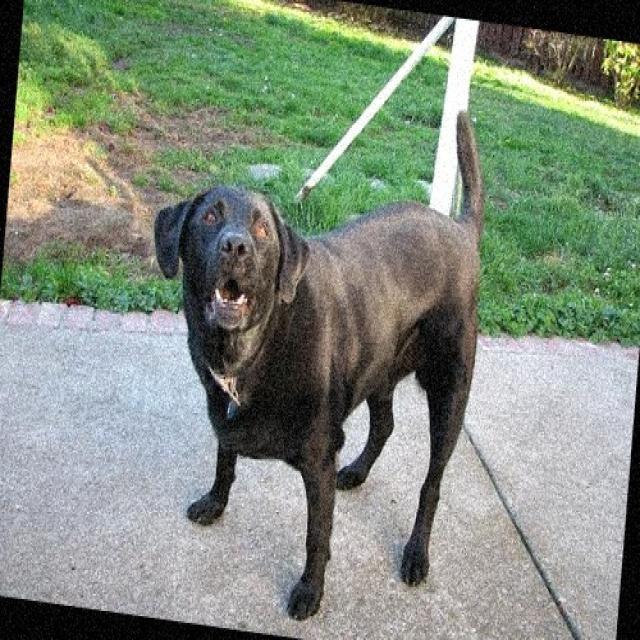angry: (135, 85, 488, 605)
